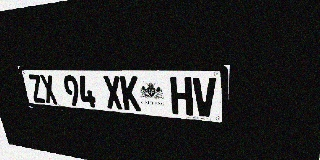4: (76, 75, 97, 108)
9: (62, 75, 82, 106)
H: (170, 77, 193, 116)
K: (120, 76, 141, 111)
V: (193, 77, 216, 118)
X: (102, 76, 124, 110), (39, 75, 58, 104)
Z: (27, 75, 46, 103)
